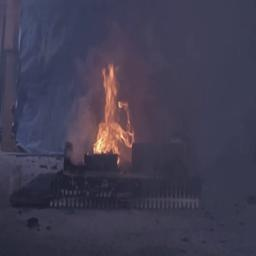fire: (90, 58, 133, 165)
